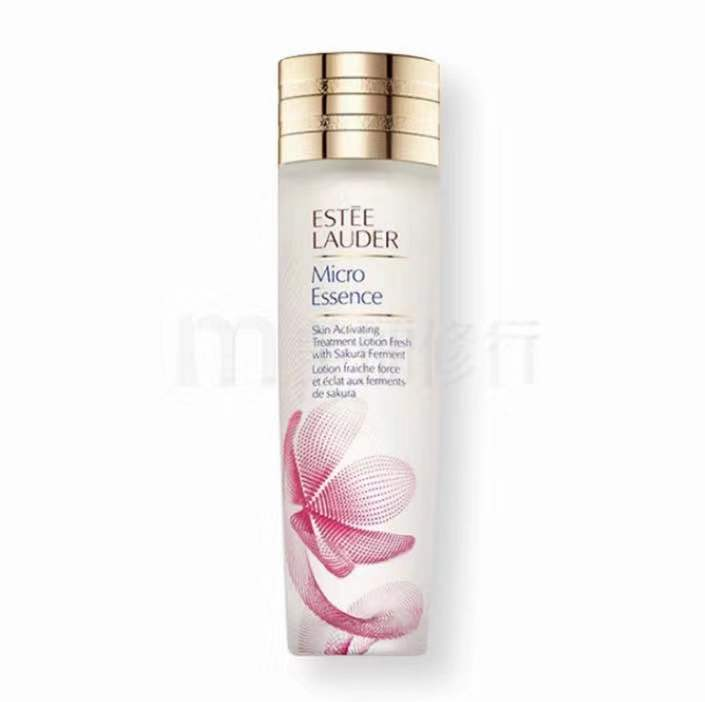cosmetic: (285, 58, 438, 656)
